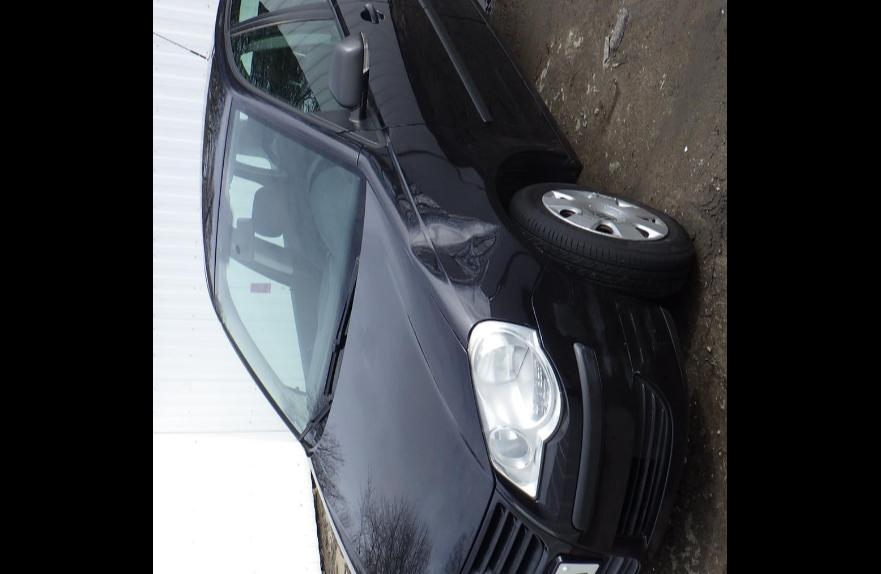Dent: (410, 216, 498, 280), (467, 288, 491, 316)
